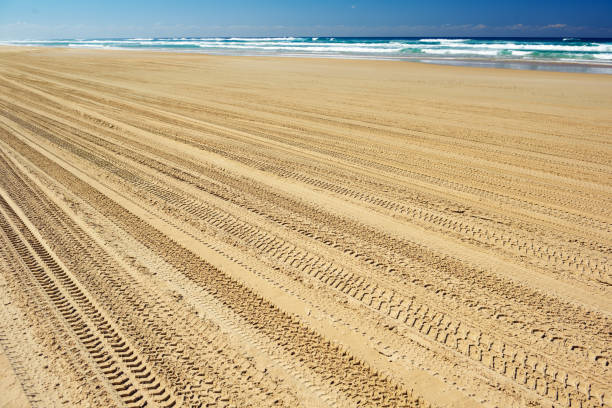vehicle_track: (0, 60, 609, 406), (21, 150, 418, 405), (127, 176, 571, 402), (5, 167, 271, 405), (200, 240, 508, 405), (231, 147, 609, 281), (0, 197, 175, 407), (0, 231, 119, 406), (400, 208, 605, 272), (26, 67, 178, 122), (454, 330, 572, 400), (170, 168, 192, 182), (345, 247, 363, 257)
